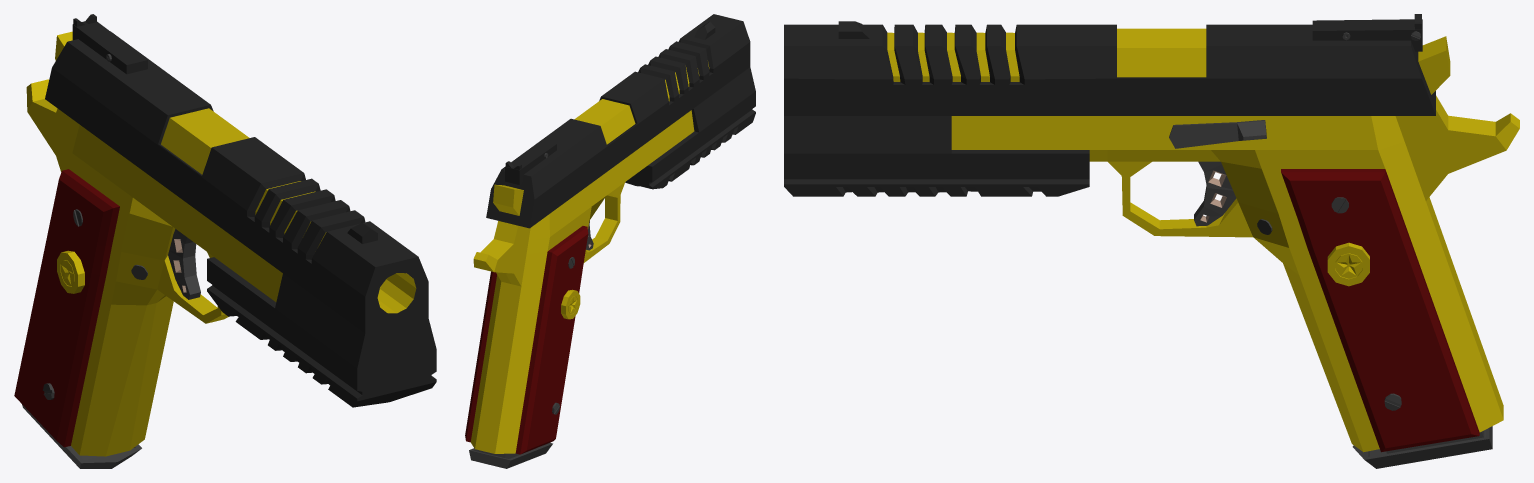
The model's file is Gun09.fbx.
The picture shows the model from 3 angles, left to right: view 1: azimuth 30°, elevation 25°; view 2: azimuth 150°, elevation 25°; view 3: azimuth 270°, elevation 25°; orthographic projection. The views are drawn at different scales.
Visible parts, largest first — view 1: Gun03, Gun06, Gun07, Gun02, Gun04, Gun05; view 2: Gun06, Gun03, Gun02, Gun04; view 3: Gun03, Gun06, Gun05, Gun02, Gun07, Gun04.
Boxes of the visible parts, left/top/right/bottom form: Gun03: left=45, top=14, right=436, bottom=407; Gun06: left=14, top=31, right=282, bottom=456; Gun07: left=168, top=229, right=200, bottom=299; Gun02: left=22, top=404, right=141, bottom=468; Gun04: left=57, top=250, right=84, bottom=293; Gun05: left=43, top=48, right=147, bottom=399; Gun06: left=465, top=110, right=694, bottom=454; Gun03: left=486, top=14, right=755, bottom=228; Gun02: left=469, top=442, right=552, bottom=468; Gun04: left=561, top=289, right=580, bottom=319; Gun03: left=784, top=14, right=1435, bottom=196; Gun06: left=951, top=36, right=1519, bottom=452; Gun05: left=1169, top=31, right=1420, bottom=410; Gun02: left=1352, top=426, right=1492, bottom=468; Gun07: left=1194, top=161, right=1236, bottom=226; Gun04: left=1327, top=242, right=1369, bottom=286.
Size of what is drawn, in the model's own units: 13.22 by 52.56 by 79.8.
